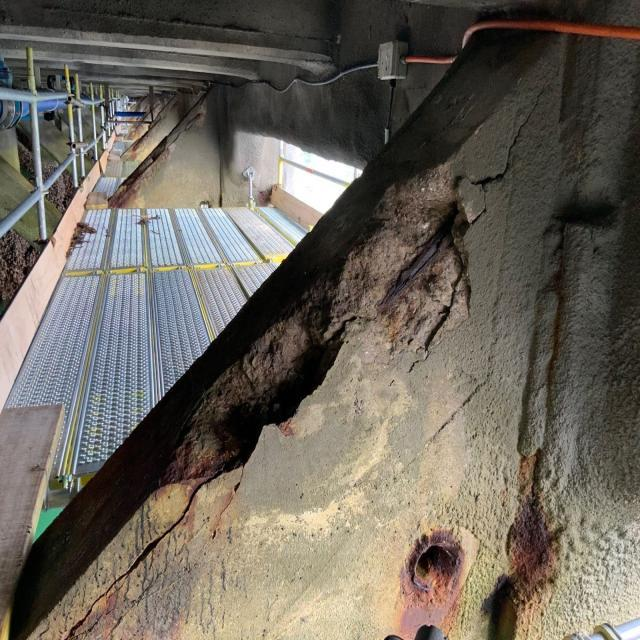spalling: (30, 162, 468, 639)
